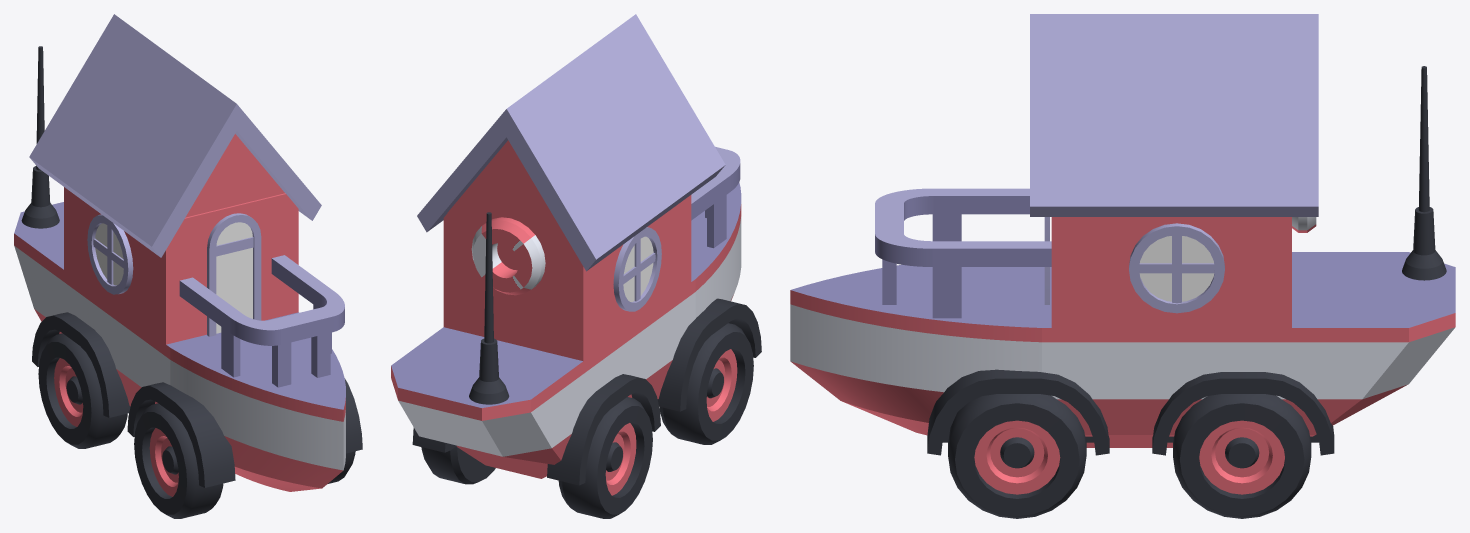
The model's file is ship_car_01_red.fbx.
3 views of the same model, side by side, from view 1: azimuth 30°, elevation 25°; view 2: azimuth 150°, elevation 25°; view 3: azimuth 270°, elevation 25° (orthographic). The views are drawn at different scales.
Visible parts, largest first — view 1: roof, hull_frontSmooth, block, wheel_standard (×2), wheel_coverWide (×3), hut_openHalf, hull_backEdge, door_rounded, hull, window_round_detail, detail_antenna; view 2: roof, hull_backEdge, block, wheel_standard (×3), wheel_coverWide (×3), hull, hull_frontSmooth, detail_tireEmergency, window_round_detail, detail_antenna, hut_openHalf; view 3: roof, hull_frontSmooth, wheel_standard (×2), hull_backEdge, block, hull, hut_openHalf, wheel_coverWide (×2), window_round_detail, detail_antenna.
Boxes of the visible parts, x1,y1,x2,y2 form: roof: [29, 14, 321, 257]; hull_frontSmooth: [170, 335, 345, 491]; block: [64, 187, 298, 344]; wheel_standard (×2): [38, 333, 223, 518]; wheel_coverWide (×3): [32, 312, 362, 487]; hut_openHalf: [179, 255, 344, 387]; hull_backEdge: [14, 202, 93, 333]; door_rounded: [207, 213, 261, 336]; hull: [93, 292, 298, 406]; window_round_detail: [87, 214, 133, 294]; detail_antenna: [21, 46, 59, 228]; roof: [417, 14, 725, 271]; hull_backEdge: [391, 327, 614, 478]; block: [443, 195, 691, 361]; wheel_standard (×3): [421, 323, 753, 518]; wheel_coverWide (×3): [412, 298, 761, 485]; hull: [615, 278, 695, 398]; hull_frontSmooth: [691, 182, 741, 318]; detail_tireEmergency: [471, 217, 545, 295]; window_round_detail: [613, 227, 661, 311]; detail_antenna: [469, 212, 509, 404]; hut_openHalf: [691, 146, 740, 248]; roof: [1030, 14, 1318, 216]; hull_frontSmooth: [790, 264, 1041, 435]; wheel_standard (×2): [948, 394, 1311, 518]; hull_backEdge: [1222, 252, 1455, 436]; block: [1051, 217, 1291, 327]; hull: [1042, 267, 1221, 447]; hut_openHalf: [875, 188, 1051, 318]; wheel_coverWide (×2): [927, 369, 1334, 455]; window_round_detail: [1129, 223, 1224, 313]; detail_antenna: [1402, 66, 1446, 280].
Size of the model in its own units: 104 by 225 by 296.
1 material, 1 textured.
